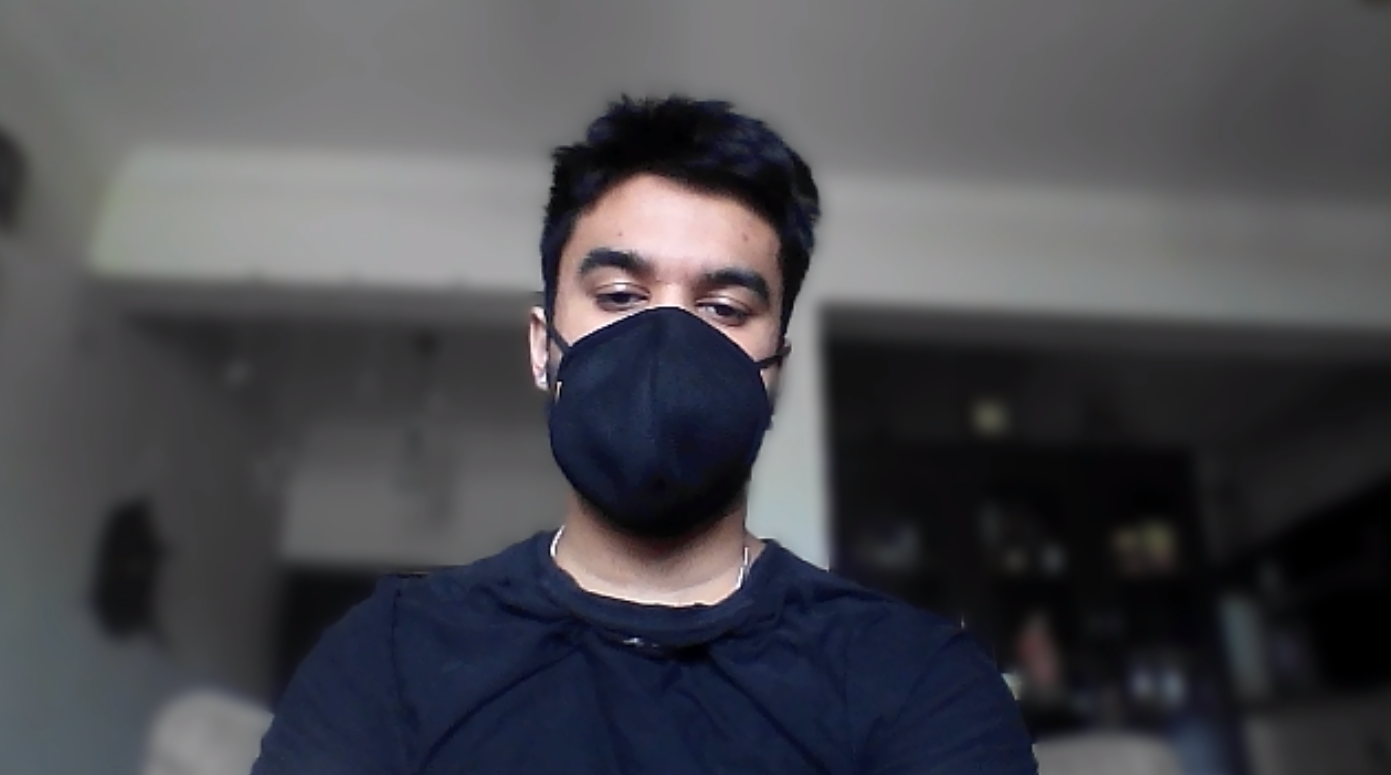Mask: (538, 312, 784, 527)
